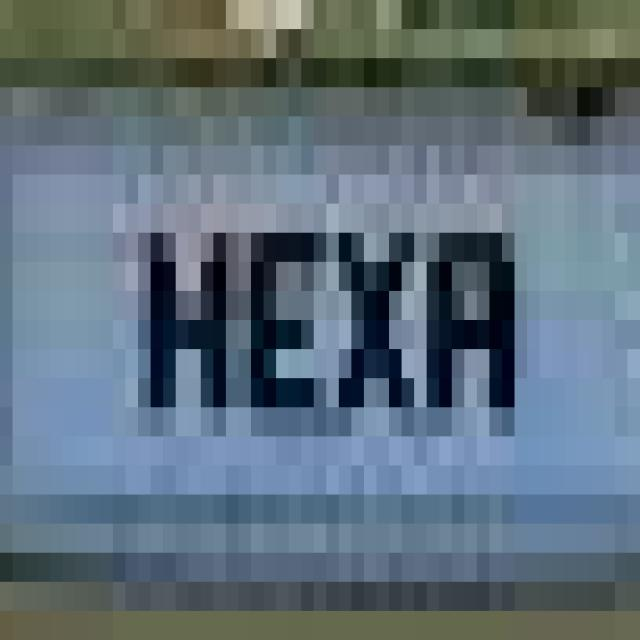A: (423, 201, 518, 430)
E: (242, 201, 330, 444)
H: (134, 190, 240, 439)
X: (330, 195, 427, 422)
